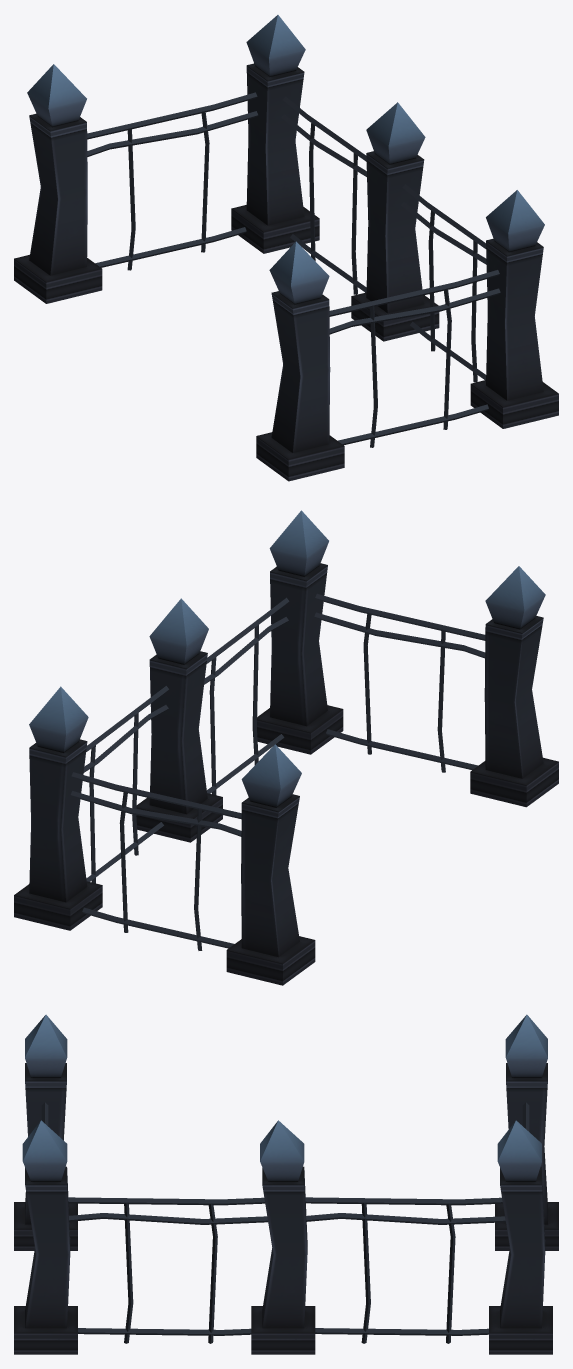
Rendered from GraveYard_Fence_04.FBX.
3 views of the same model, one above another, from view 1: azimuth 30°, elevation 25°; view 2: azimuth 150°, elevation 25°; view 3: azimuth 270°, elevation 25° (orthographic).
Visible parts, largest first — view 1: GraveYard_Fence_04; view 2: GraveYard_Fence_04; view 3: GraveYard_Fence_04.
Part boxes in pixels (x1=…): GraveYard_Fence_04: x1=14, y1=15, x2=558, y2=481; GraveYard_Fence_04: x1=14, y1=510, x2=558, y2=985; GraveYard_Fence_04: x1=14, y1=1014, x2=558, y2=1354.
Bounding box in the file's own units: 93.2 × 73.72 × 164.
